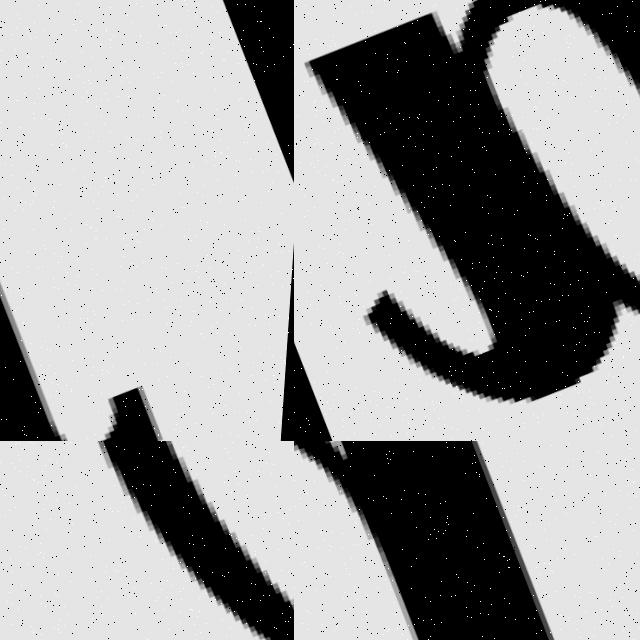0: (1, 441, 294, 640)
A: (294, 0, 640, 441)
J: (0, 0, 209, 441)
R: (294, 441, 640, 640)
